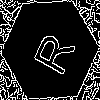R: (25, 25, 76, 78)
